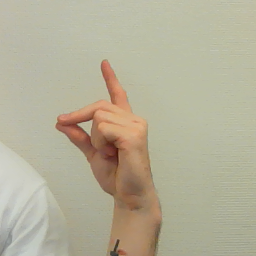K: (54, 59, 170, 215)
